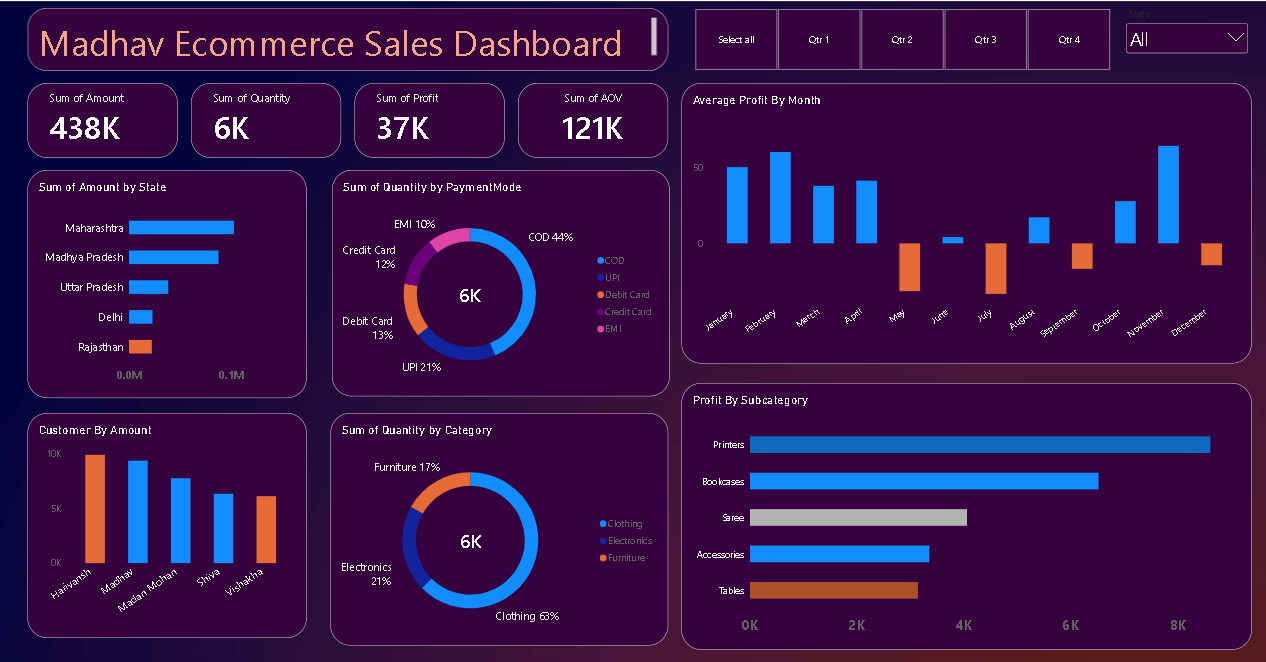

What the dashboard file says about the page in this screenshot:
{"tool":"powerbi","page":{"name":"Page 1","canvas":[1920,1080],"ordinal":0},"visuals":[{"type":"textbox","box":[43.2,45.4,969.8,95.4],"z":0},{"type":"columnChart","title":"Average Profit By Month","fields":{"Category":["Orders.Order Date.Variation.Date Hierarchy.Month"],"Y":["Avg(Details.Profit)"]},"box":[1033.4,159,863.1,424.7],"z":1},{"type":"barChart","title":"Profit By Subcategory","fields":{"Category":["Details.Sub-Category"],"Y":["Sum(Details.Profit)"]},"box":[1033.4,613.3,863.1,404.3],"z":2},{"type":"donutChart","fields":{"Category":["Details.Category"],"Y":["Sum(Details.Quantity)"]},"box":[502,658.7,511,352.1],"z":3},{"type":"donutChart","fields":{"Category":["Details.PaymentMode"],"Y":["Sum(Details.Quantity)"]},"box":[504.2,290.7,511,343],"z":4},{"type":"cardVisual","fields":{"Data":["Sum(Details.Amount)"]},"box":[43.2,159,227.1,113.6],"z":5},{"type":"cardVisual","fields":{"Data":["Sum(Details.Quantity)"]},"box":[290.7,159,227.1,113.6],"z":6},{"type":"cardVisual","fields":{"Data":["Sum(Details.Profit)"]},"box":[538.3,159,227.1,113.6],"z":7},{"type":"cardVisual","fields":{"Data":["Sum(Details.AOV)"]},"box":[785.9,159,227.1,113.6],"z":8},{"type":"barChart","title":"Sum of Amount by State","fields":{"Category":["Orders.State"],"Y":["Sum(Details.Amount)"]},"box":[43.2,290.7,422.5,345.2],"z":9},{"type":"columnChart","title":"Customer By Amount","fields":{"Category":["Orders.CustomerName"],"Y":["Sum(Details.Amount)"]},"box":[43.2,658.7,422.5,340.7],"z":10},{"type":"slicer","fields":{"Values":["Orders.Order Date.Variation.Date Hierarchy.Quarter"]},"box":[1033.4,45.4,667.8,95.4],"z":11},{"type":"slicer","fields":{"Values":["Orders.State"]},"box":[1701.2,45.4,195.3,95.4],"z":12}]}

Visuals, with their boxes on the page's 1920x1080 design canvas (x1, y1, x2, y2). These are canvas units, not pixel positions in the 1266x662 screenshot, which may show the page scaled, cropped or inside an application window:
textbox: (x1=43, y1=45, x2=1013, y2=141)
"Average Profit By Month" columnChart: (x1=1033, y1=159, x2=1896, y2=584)
"Profit By Subcategory" barChart: (x1=1033, y1=613, x2=1896, y2=1018)
donutChart - Details.Category x Sum(Details.Quantity): (x1=502, y1=659, x2=1013, y2=1011)
donutChart - Details.PaymentMode x Sum(Details.Quantity): (x1=504, y1=291, x2=1015, y2=634)
cardVisual - Sum(Details.Amount): (x1=43, y1=159, x2=270, y2=273)
cardVisual - Sum(Details.Quantity): (x1=291, y1=159, x2=518, y2=273)
cardVisual - Sum(Details.Profit): (x1=538, y1=159, x2=765, y2=273)
cardVisual - Sum(Details.AOV): (x1=786, y1=159, x2=1013, y2=273)
"Sum of Amount by State" barChart: (x1=43, y1=291, x2=466, y2=636)
"Customer By Amount" columnChart: (x1=43, y1=659, x2=466, y2=999)
slicer - Orders.Order Date.Variation.Date Hierarchy.Quarter: (x1=1033, y1=45, x2=1701, y2=141)
slicer - Orders.State: (x1=1701, y1=45, x2=1896, y2=141)
